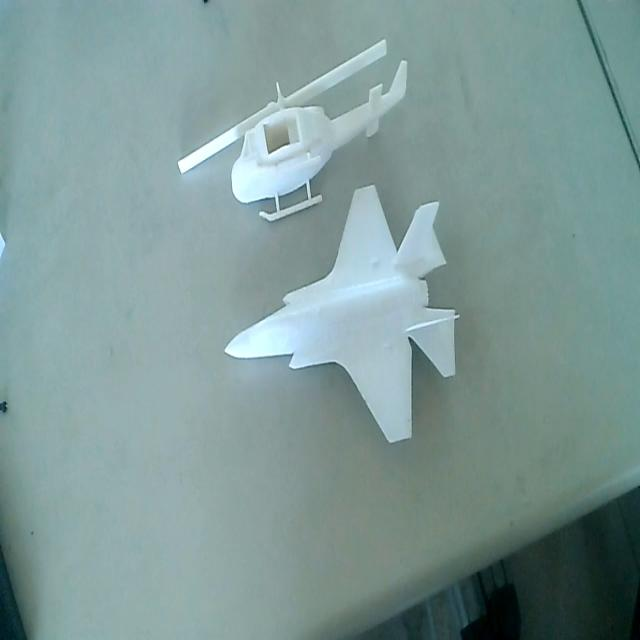Helicopter: (178, 32, 414, 230)
Jet: (226, 185, 461, 446)
